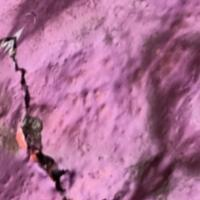crack: (0, 28, 73, 199)
